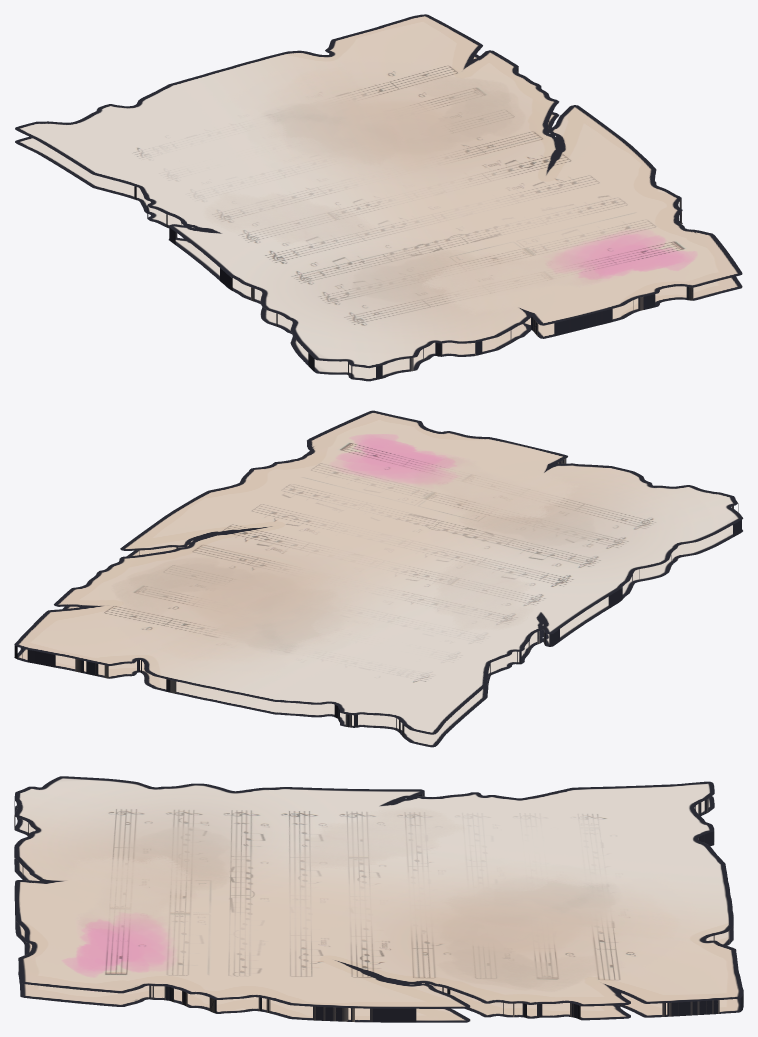
File: PartituraRasgada.fbx
3 renders of one model, top to bottom at view 1: azimuth 30°, elevation 25°; view 2: azimuth 150°, elevation 25°; view 3: azimuth 270°, elevation 25°, orthographic. The views are drawn at different scales.
Parts seen in each view (by area): view 1: PartituraRasgada; view 2: PartituraRasgada; view 3: PartituraRasgada.
Part boxes in pixels (<box>): PartituraRasgada: <box>15,14,742,381</box>; PartituraRasgada: <box>14,410,743,747</box>; PartituraRasgada: <box>14,776,743,1022</box>.
Size of the model in its own units: 117 by 3.23 by 155.
Materials: 1 (1 with a texture image).
